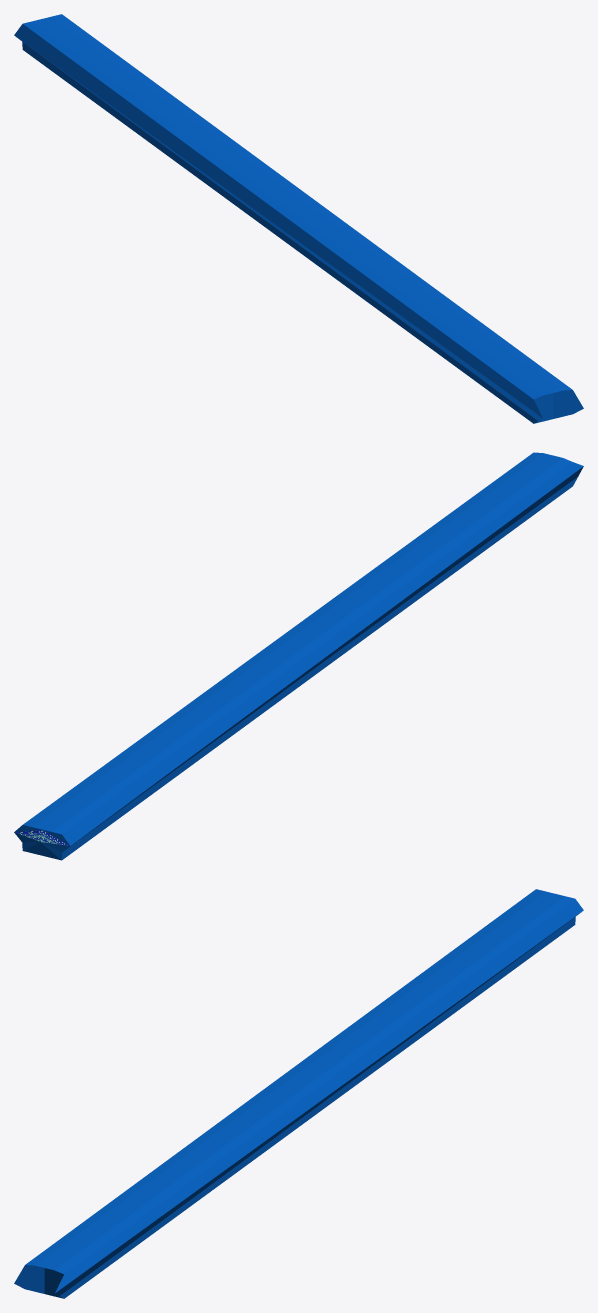
File: climbable.fbx
3 renders of one model, top to bottom at view 1: azimuth 30°, elevation 25°; view 2: azimuth 150°, elevation 25°; view 3: azimuth 330°, elevation 25°, orthographic.
Visible parts, largest first — view 1: Cube.002; view 2: Cube.002; view 3: Cube.002.
Boxes of the visible parts, bbox=[...] form: Cube.002: bbox=[14, 14, 583, 423]; Cube.002: bbox=[14, 452, 583, 860]; Cube.002: bbox=[14, 889, 583, 1298].
Bounding box in the file's own units: 2.27 × 36.29 × 1.
Materials: 2 (1 with a texture image).
